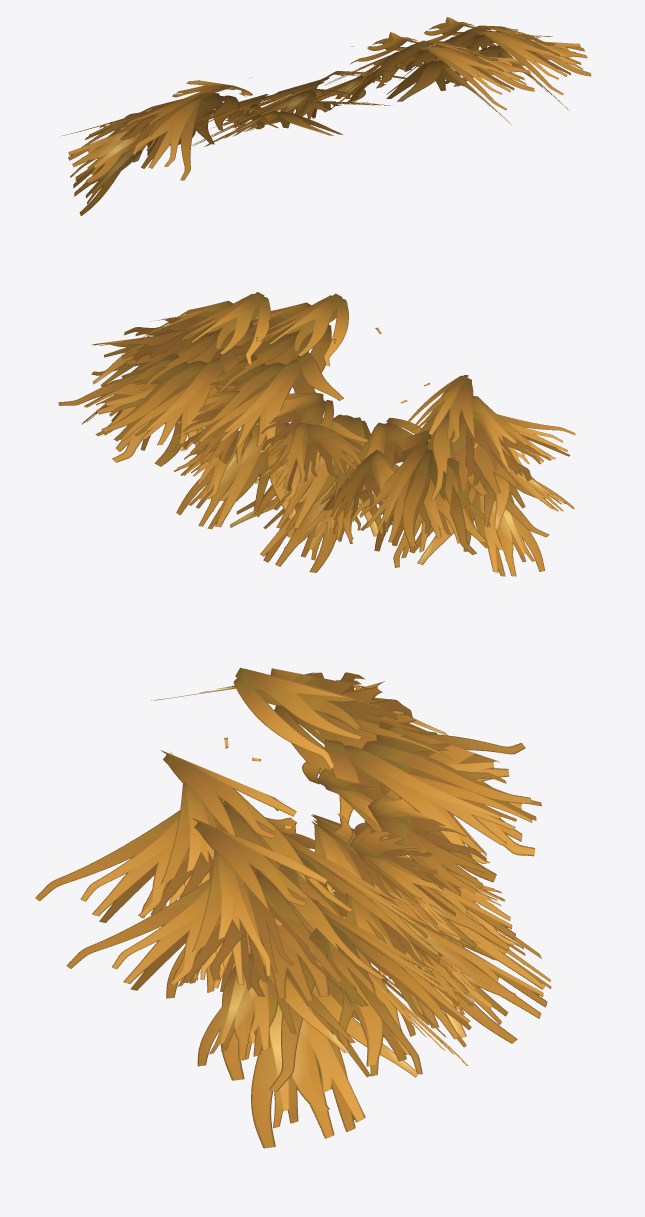
The model's file is SquareBaseHouserRoofSmallCard.fbx.
The picture shows the model from 3 angles, top to bottom: view 1: azimuth 30°, elevation 25°; view 2: azimuth 150°, elevation 25°; view 3: azimuth 270°, elevation 25°; orthographic projection. The views are drawn at different scales.
Parts seen in each view (by area): view 1: StrawCard.002; view 2: StrawCard.002; view 3: StrawCard.002.
Boxes of the visible parts, box(x1,y1,x2,y2) form: StrawCard.002: box(60, 17, 591, 215); StrawCard.002: box(58, 292, 575, 576); StrawCard.002: box(35, 667, 551, 1148).
Size of the model in its own units: 29.18 by 10.14 by 16.91.
